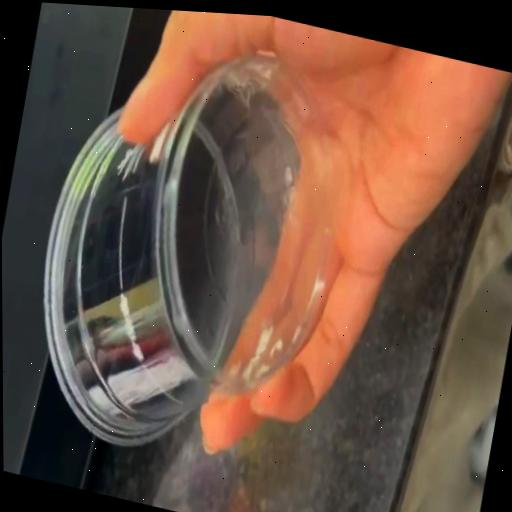ly_giay: (44, 52, 340, 444)
